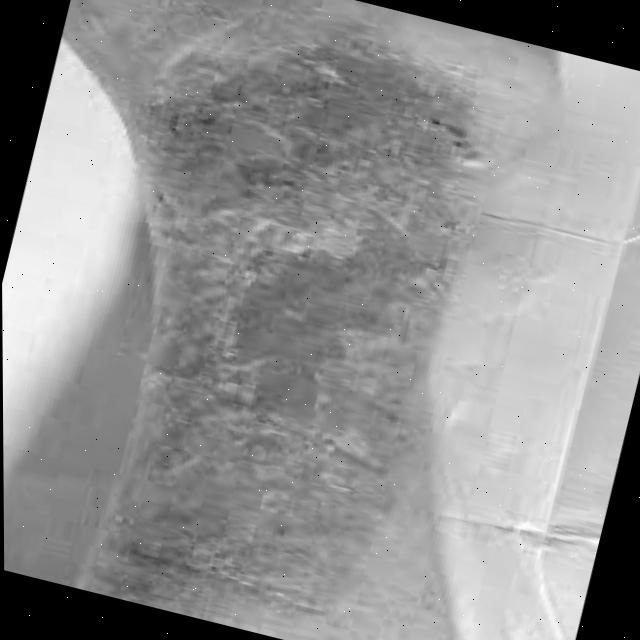Eczema: (75, 1, 500, 640)
